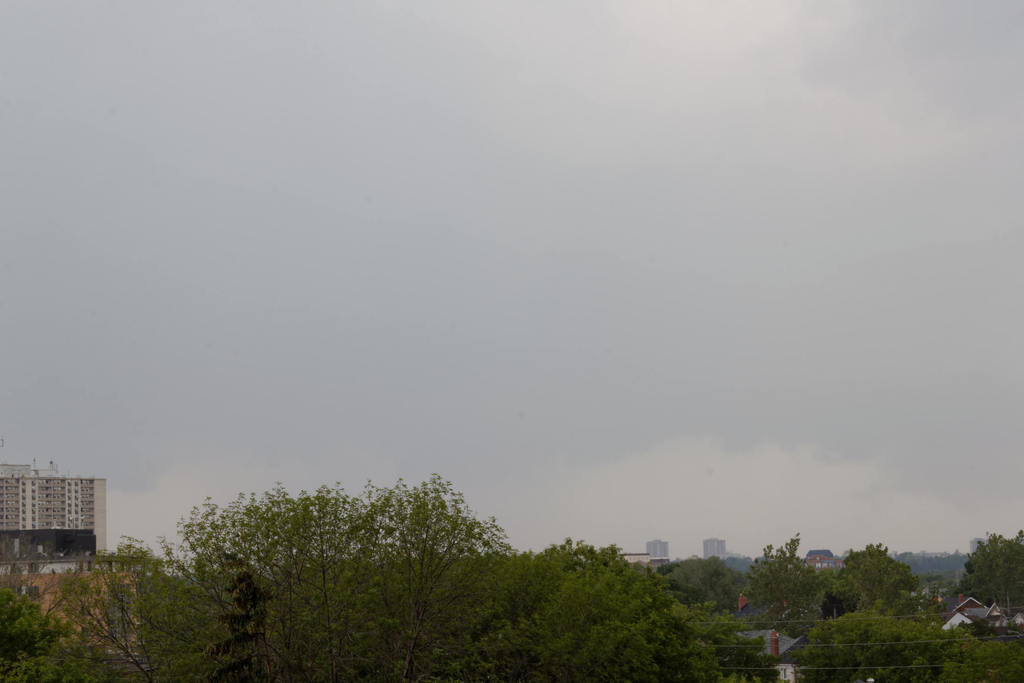Tree: (0, 484, 730, 682), (346, 466, 496, 622), (733, 531, 837, 643), (948, 522, 1023, 614), (833, 534, 919, 611)
